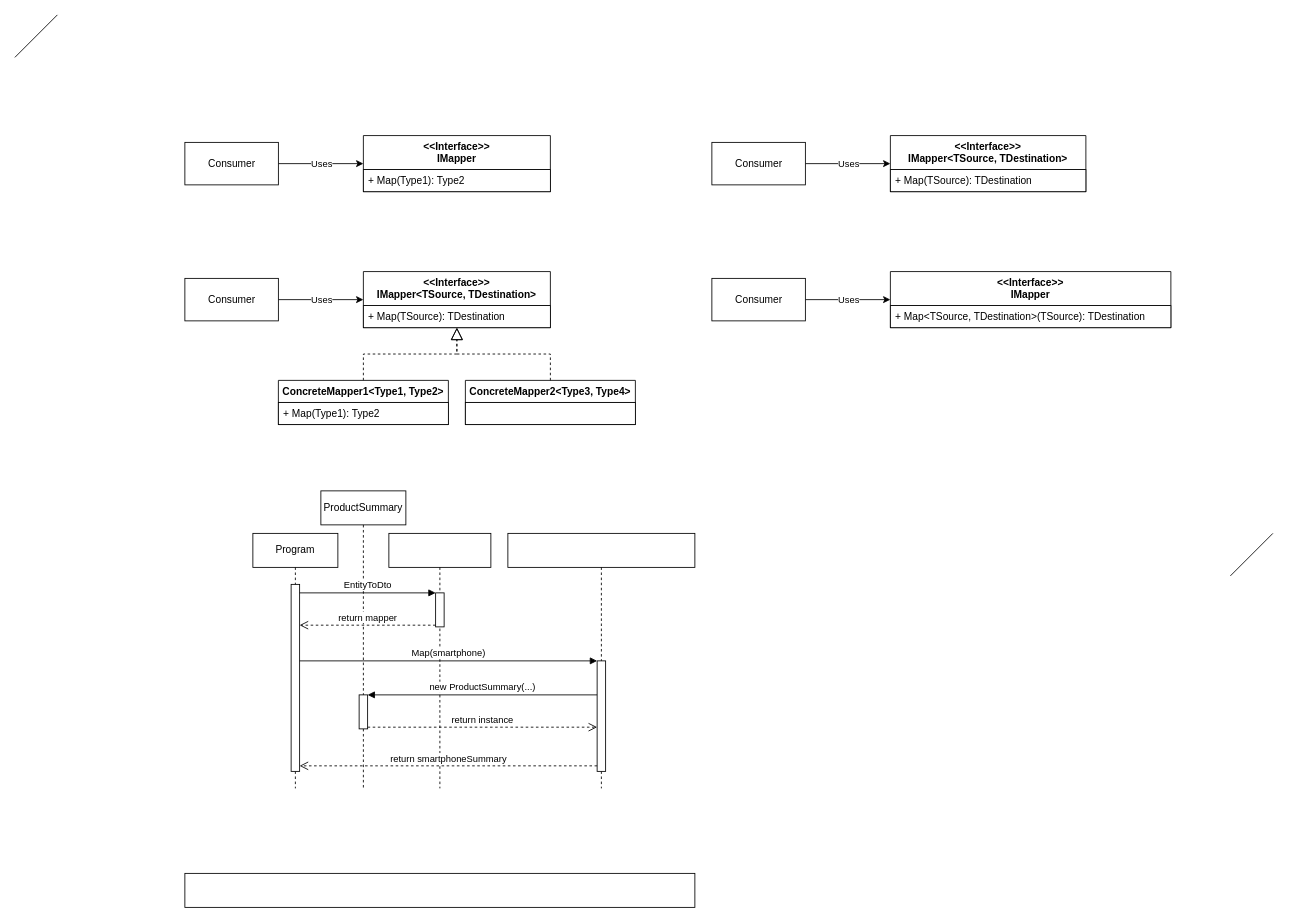
The diagram is 1289 pixels wide and 922 high, and some of its shapes have lost their labels. Here are the shapes that lost their labels. From the top down, the centre of each, then its label:
At point (550, 413): "+ Map(Type3): Type4".
At point (439, 660): "ProductMappers".
At point (601, 660): "ProductToProductSummaryMapper".
At point (439, 890): "600 px MAX width".
